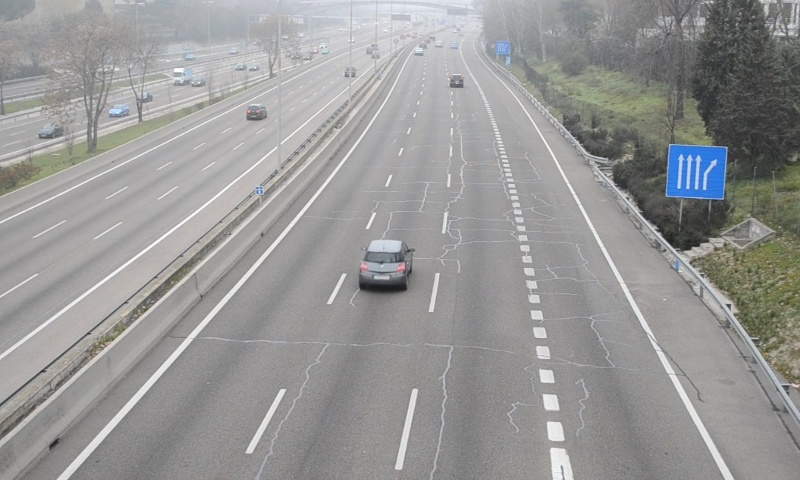car: (360, 240, 411, 288), (449, 74, 464, 88)
